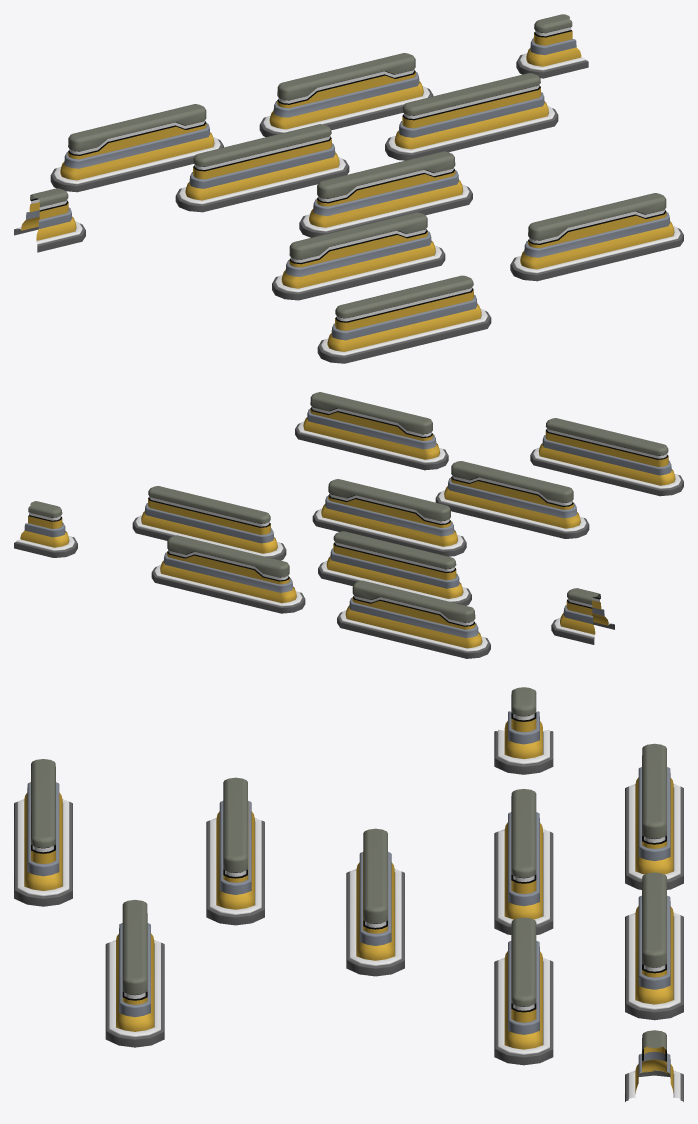
File: Level23_Small_walls.fbx
3 renders of one model, top to bottom at view 1: azimuth 30°, elevation 25°; view 2: azimuth 150°, elevation 25°; view 3: azimuth 270°, elevation 25°, orthographic. The views are drawn at different scales.
Parts seen in each view (by area): view 1: Small_wallv2_11, Small_wallv1_15, Small_wallv1_14, Small_wallv2_9, Small_wallv2_10, Small_wallv1_12, Small_wallv1_16, Small_wallv1_13, Small_wallv2_13, Small_wallv2_12; view 2: Small_wallv1_12, Small_wallv2_11, Small_wallv1_13, Small_wallv1_14, Small_wallv1_15, Small_wallv1_16, Small_wallv2_9, Small_wallv2_10, Small_wallv2_13, Small_wallv2_12; view 3: Small_wallv2_10, Small_wallv1_14, Small_wallv1_13, Small_wallv2_11, Small_wallv1_15, Small_wallv1_16, Small_wallv2_9, Small_wallv1_12, Small_wallv2_12, Small_wallv2_13.
Boxes of the visible parts, x1,y1,x2,y2 form: Small_wallv2_11: (317, 275, 491, 363); Small_wallv1_15: (272, 212, 445, 300); Small_wallv1_14: (510, 193, 683, 281); Small_wallv2_9: (175, 124, 349, 212); Small_wallv2_10: (385, 73, 558, 160); Small_wallv1_12: (50, 104, 223, 192); Small_wallv1_16: (299, 151, 472, 237); Small_wallv1_13: (259, 53, 433, 136); Small_wallv2_13: (516, 14, 588, 78); Small_wallv2_12: (14, 188, 85, 252); Small_wallv1_12: (337, 580, 490, 658); Small_wallv2_11: (530, 418, 683, 496); Small_wallv1_13: (151, 535, 305, 613); Small_wallv1_14: (295, 392, 448, 470); Small_wallv1_15: (435, 461, 589, 538); Small_wallv1_16: (312, 479, 466, 556); Small_wallv2_9: (318, 531, 471, 605); Small_wallv2_10: (132, 486, 286, 560); Small_wallv2_13: (14, 501, 77, 557); Small_wallv2_12: (551, 588, 614, 644); Small_wallv2_10: (494, 917, 553, 1065); Small_wallv1_14: (105, 900, 164, 1047); Small_wallv1_13: (625, 872, 683, 1020); Small_wallv2_11: (14, 759, 72, 906); Small_wallv1_15: (206, 777, 264, 925); Small_wallv1_16: (346, 828, 404, 976); Small_wallv2_9: (494, 789, 553, 934); Small_wallv1_12: (625, 743, 683, 889); Small_wallv2_12: (494, 687, 553, 774); Small_wallv2_13: (625, 1030, 683, 1101).
Size of the model in its own units: 513 by 37.08 by 392.
